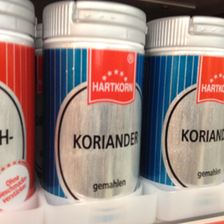spices: (43, 1, 147, 202), (146, 14, 224, 187)
